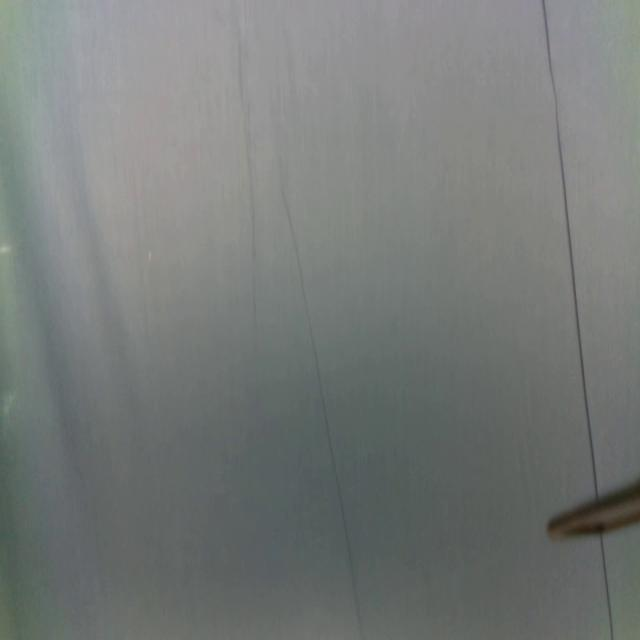crease: (279, 182, 362, 627), (543, 0, 598, 495), (236, 19, 259, 338), (599, 535, 615, 640)
